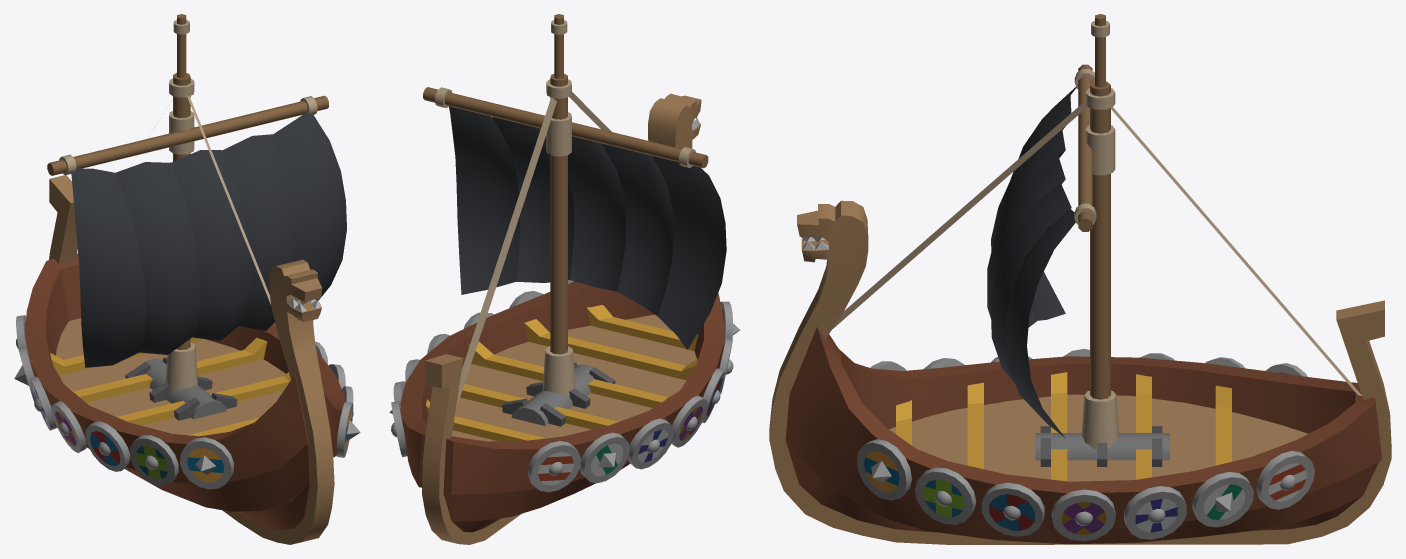
File: Drakkar.fbx
3 views of the same model, side by side, from view 1: azimuth 30°, elevation 25°; view 2: azimuth 150°, elevation 25°; view 3: azimuth 270°, elevation 25° (orthographic). The views are drawn at different scales.
Parts seen in each view (by area): view 1: Drakkar, Sails_Black, Upgrade_02, Upgrade_01; view 2: Drakkar, Sails_Black, Upgrade_02, Upgrade_01; view 3: Drakkar, Upgrade_02, Sails_Black, Upgrade_01.
Part boxes in pixels (bbox=[...]): Drakkar: bbox=[25, 14, 344, 544]; Sails_Black: bbox=[71, 111, 346, 367]; Upgrade_02: bbox=[14, 315, 360, 489]; Upgrade_01: bbox=[50, 337, 290, 436]; Drakkar: bbox=[400, 14, 724, 544]; Sails_Black: bbox=[449, 106, 726, 349]; Upgrade_02: bbox=[389, 280, 739, 492]; Upgrade_01: bbox=[426, 305, 698, 441]; Drakkar: bbox=[769, 14, 1391, 544]; Upgrade_02: bbox=[856, 348, 1314, 541]; Sails_Black: bbox=[987, 86, 1077, 437]; Upgrade_01: bbox=[896, 372, 1231, 481].
Bounding box in the file's own units: 521 × 825 × 889.
